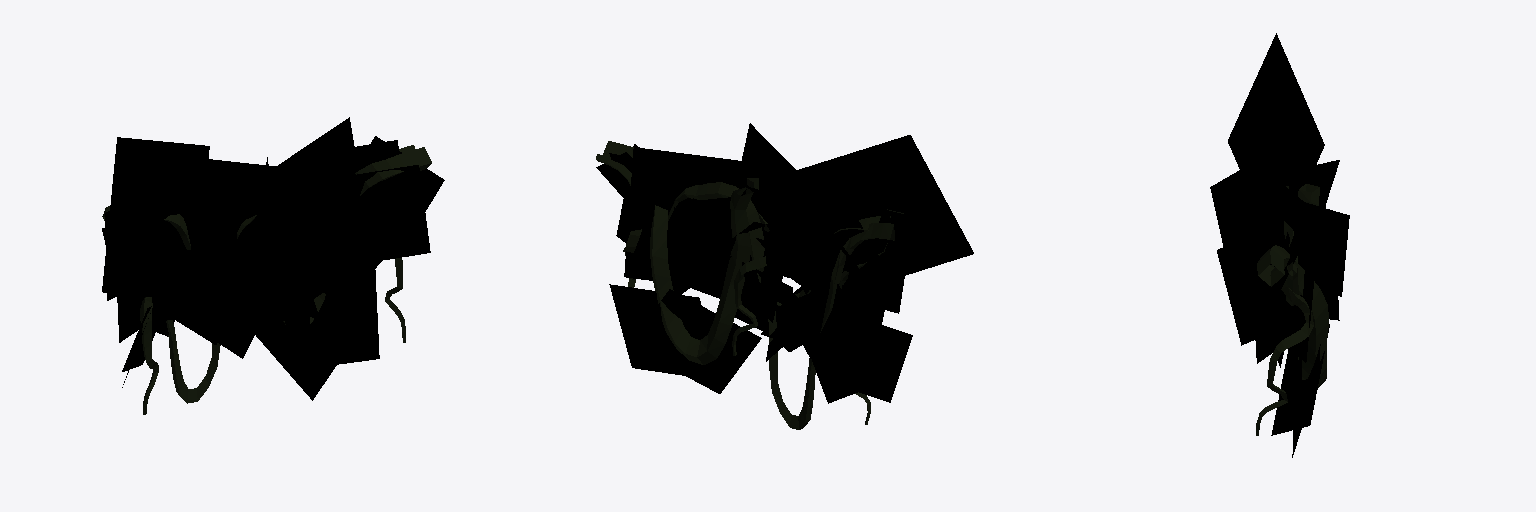
Rendered from NeanderVinesF1.obj.
3 views of the same model, side by side, from view 1: azimuth 30°, elevation 25°; view 2: azimuth 150°, elevation 25°; view 3: azimuth 270°, elevation 25° (orthographic).
Parts seen in each view (by area): view 1: polySurface26; view 2: polySurface26; view 3: polySurface26.
Boxes of the visible parts, <box> form: polySurface26: <box>102,117,444,414</box>; polySurface26: <box>596,123,973,429</box>; polySurface26: <box>1210,33,1349,457</box>.
Size of the model in its own units: 24.09 by 19.72 by 8.07.